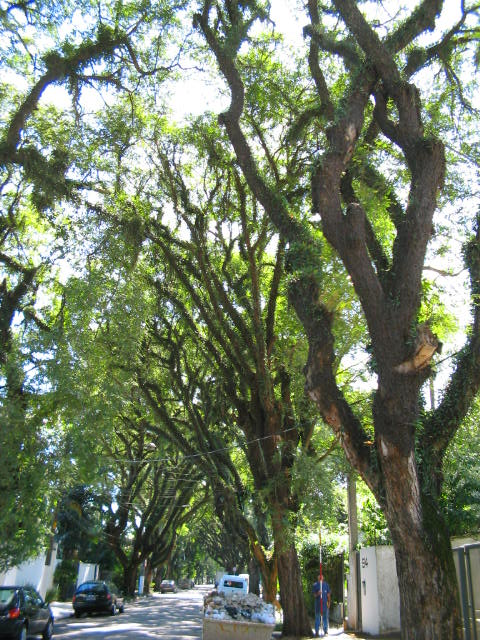stem: (379, 499, 472, 638), (269, 513, 315, 634)
stick: (314, 528, 327, 634)
tree: (82, 33, 383, 635)
